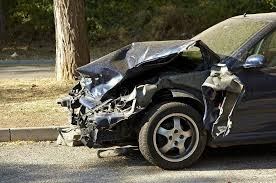Smashed: (67, 39, 222, 152)
